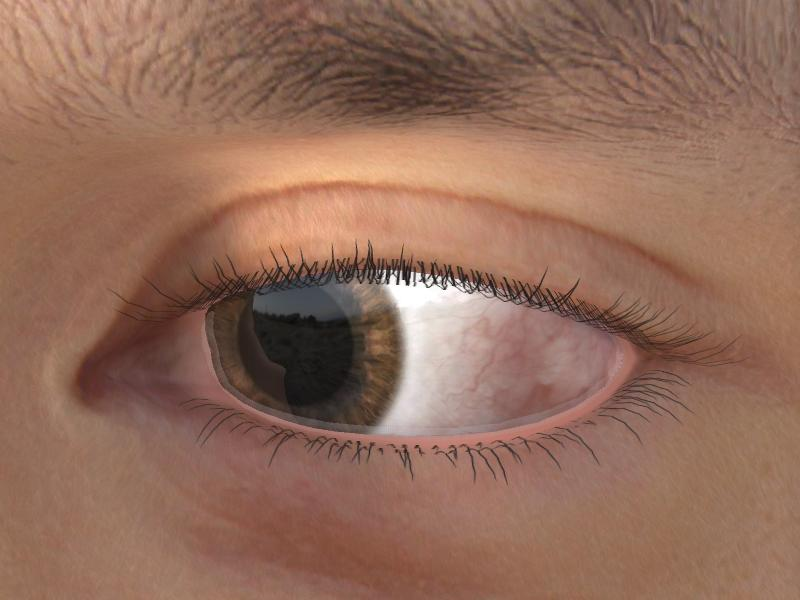eye: (214, 271, 405, 436)
